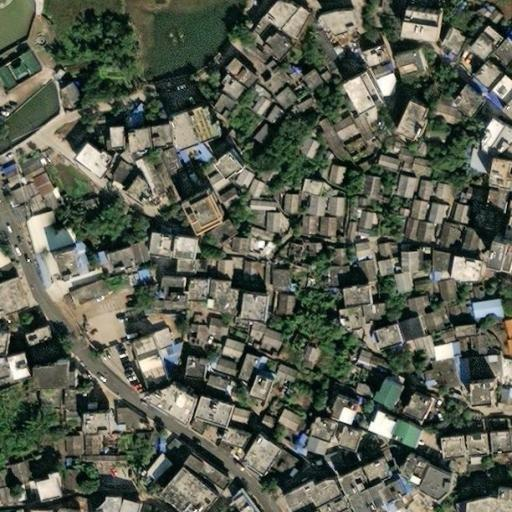building: (339, 458, 409, 512), (397, 456, 459, 507), (160, 470, 219, 512), (147, 387, 204, 430), (124, 334, 166, 392), (16, 209, 66, 252), (179, 453, 229, 494), (170, 187, 214, 232), (240, 437, 282, 479), (151, 152, 187, 201), (474, 118, 512, 161), (337, 71, 374, 113), (359, 407, 401, 442), (100, 159, 138, 197), (408, 14, 452, 46), (389, 96, 422, 137), (400, 390, 437, 426), (161, 112, 195, 151), (324, 395, 363, 429), (72, 148, 112, 181), (459, 487, 511, 512), (41, 366, 84, 394), (254, 30, 289, 64), (310, 478, 345, 512), (197, 398, 233, 431), (218, 57, 253, 90), (393, 51, 431, 81), (211, 149, 243, 182), (369, 379, 402, 411), (322, 10, 361, 37), (308, 119, 335, 157), (463, 296, 500, 323), (393, 419, 424, 451), (482, 237, 512, 270), (345, 348, 383, 374), (446, 258, 481, 286), (187, 106, 212, 145), (283, 487, 322, 512), (421, 357, 451, 389), (15, 148, 47, 177), (455, 148, 488, 176), (361, 15, 399, 39), (233, 354, 260, 387), (207, 336, 237, 365), (140, 232, 170, 261), (213, 74, 243, 103), (470, 63, 499, 93), (5, 453, 34, 483), (64, 281, 99, 305), (328, 424, 358, 452), (486, 74, 512, 106), (477, 0, 510, 25), (273, 192, 301, 221), (60, 254, 87, 284), (405, 149, 436, 175), (237, 294, 265, 322), (254, 68, 282, 96), (306, 417, 334, 445), (369, 324, 399, 350), (237, 87, 264, 115), (51, 82, 78, 110), (288, 259, 315, 287), (477, 386, 506, 412), (487, 40, 512, 70), (354, 303, 388, 325), (468, 36, 495, 63), (333, 137, 360, 164), (7, 356, 32, 385), (216, 430, 247, 453), (464, 356, 496, 378), (157, 280, 184, 306), (436, 436, 463, 462), (449, 226, 473, 255), (206, 94, 232, 120), (242, 123, 268, 149), (36, 479, 61, 506), (139, 124, 164, 151), (460, 433, 485, 460), (423, 254, 450, 279), (491, 161, 512, 193), (393, 318, 421, 342), (138, 455, 163, 481), (202, 357, 229, 381), (348, 372, 375, 396), (196, 373, 224, 396), (106, 251, 134, 274), (447, 412, 476, 434), (266, 87, 291, 112), (258, 269, 284, 293), (322, 116, 348, 140), (248, 377, 271, 404), (265, 362, 291, 385), (89, 416, 116, 438), (60, 460, 81, 488), (255, 103, 279, 127), (247, 17, 271, 41), (298, 68, 322, 92), (269, 409, 294, 432), (182, 282, 204, 308), (23, 173, 45, 199), (26, 250, 41, 288), (0, 155, 21, 182), (435, 222, 455, 250), (417, 201, 440, 225), (269, 455, 292, 479), (333, 310, 356, 334), (225, 490, 250, 512), (319, 160, 341, 185), (487, 432, 509, 457), (24, 329, 51, 349), (369, 73, 392, 96), (252, 328, 276, 350), (384, 176, 406, 200), (405, 220, 427, 244), (475, 89, 499, 111), (311, 450, 337, 470), (173, 237, 195, 260), (341, 288, 369, 306), (122, 129, 142, 154), (440, 202, 462, 224), (398, 200, 421, 221), (396, 295, 420, 315), (211, 185, 233, 206), (403, 340, 420, 367), (296, 438, 324, 454), (157, 438, 178, 459), (343, 114, 363, 136), (427, 280, 447, 302), (240, 239, 265, 256), (232, 262, 252, 283), (237, 178, 257, 199), (289, 137, 309, 158), (460, 207, 480, 228), (381, 273, 402, 293), (0, 238, 14, 268), (176, 325, 198, 344), (347, 260, 366, 282), (103, 128, 121, 151), (0, 476, 15, 503), (197, 170, 217, 190), (308, 217, 327, 238), (424, 181, 445, 200), (460, 335, 479, 356), (416, 310, 435, 331), (12, 178, 30, 200), (425, 342, 447, 360), (283, 432, 301, 454), (58, 393, 82, 409), (300, 197, 319, 217), (395, 252, 413, 273), (0, 324, 14, 351), (254, 210, 271, 232), (298, 181, 320, 198), (348, 208, 365, 230), (318, 197, 336, 217), (387, 145, 407, 163), (461, 76, 481, 94), (293, 343, 311, 363), (368, 155, 389, 172), (96, 496, 118, 512), (449, 360, 465, 382), (322, 500, 351, 512), (239, 322, 257, 341), (322, 268, 341, 286), (407, 180, 424, 200), (480, 29, 500, 46), (181, 358, 197, 379), (394, 217, 410, 238), (223, 236, 241, 254), (198, 318, 216, 336), (332, 445, 351, 462), (450, 325, 474, 338), (126, 433, 143, 451), (0, 188, 16, 207), (344, 241, 363, 257), (497, 319, 512, 339), (482, 192, 495, 215), (241, 200, 267, 211), (293, 216, 308, 235), (266, 295, 280, 315), (491, 193, 503, 216), (19, 195, 35, 212), (438, 305, 454, 322), (434, 420, 450, 437), (116, 502, 143, 512), (187, 150, 205, 165), (499, 143, 512, 163), (88, 251, 104, 267), (255, 59, 271, 75), (276, 242, 291, 259), (83, 139, 104, 151), (324, 248, 338, 266), (53, 434, 64, 456), (218, 447, 233, 463), (116, 271, 130, 288), (498, 338, 512, 355), (369, 244, 383, 260), (73, 435, 84, 455), (125, 107, 136, 127), (363, 178, 373, 198), (205, 261, 216, 279), (463, 285, 476, 300), (499, 31, 512, 45), (127, 273, 142, 285), (337, 222, 346, 242), (359, 330, 371, 345), (147, 438, 156, 455), (346, 228, 361, 238), (435, 51, 447, 62), (116, 115, 126, 128), (360, 227, 370, 240), (52, 412, 68, 420), (490, 323, 498, 339), (391, 161, 403, 171), (304, 244, 313, 257), (507, 197, 512, 220), (417, 371, 424, 387), (362, 216, 367, 228), (448, 353, 455, 360)
